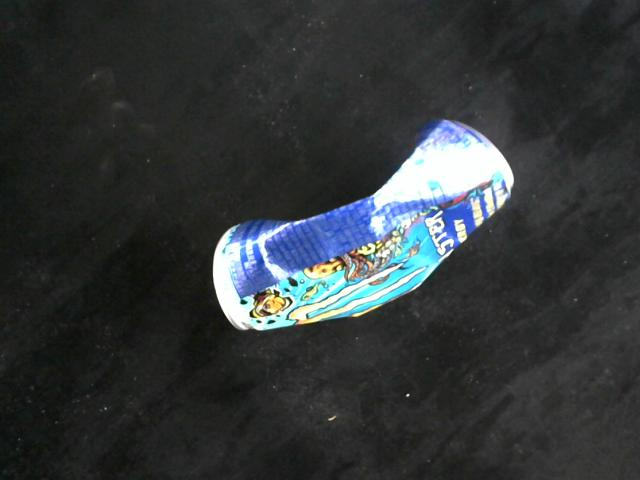can: (207, 115, 518, 335)
